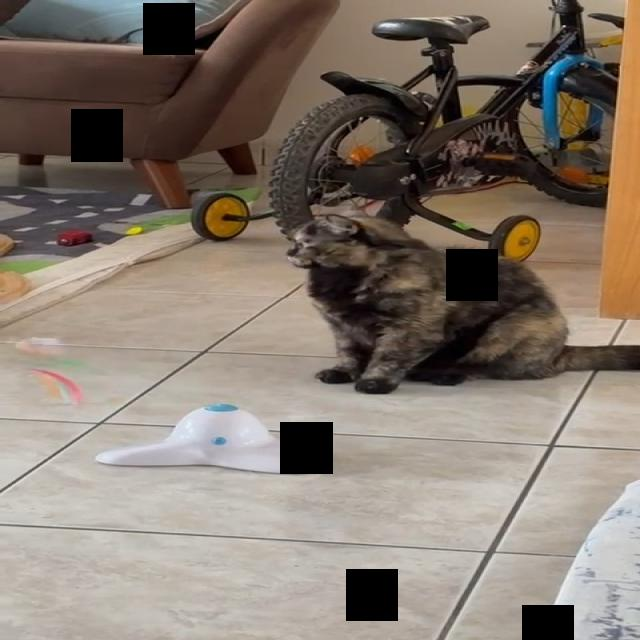authorized: (282, 213, 638, 394)
